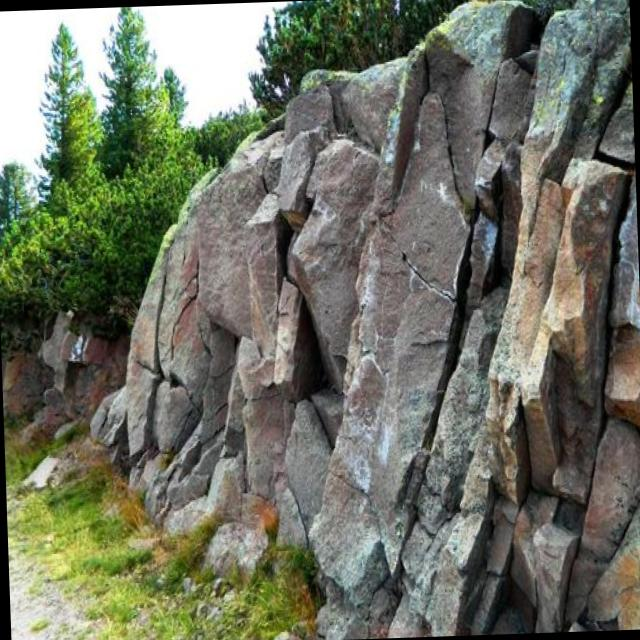cement: (1, 0, 640, 640)
grass: (4, 437, 315, 640)
